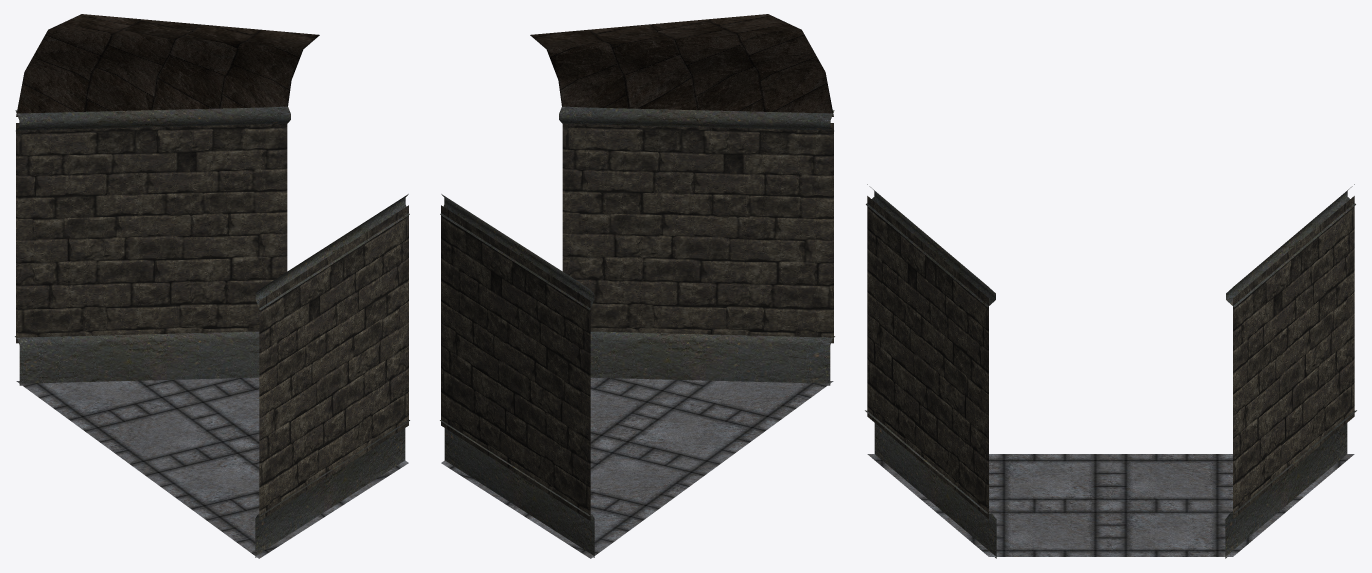
File: Transition.fbx
3 renders of one model, left to right at view 1: azimuth 30°, elevation 25°; view 2: azimuth 150°, elevation 25°; view 3: azimuth 270°, elevation 25°, orthographic.
Visible parts, largest first — view 1: Plane_020, Plane_002, Mesh, Plane_021, Plane_019, Plane_016, Plane_018, Plane_017; view 2: Plane_002, Plane_020, Mesh, Plane_021, Plane_016, Plane_019, Plane_017, Plane_018; view 3: Plane_020, Plane_002, Plane_021, Plane_019, Plane_016, Plane_018, Plane_017.
Boxes of the visible parts, x1,y1,x2,y2 form: Plane_020: (16, 123, 287, 343); Plane_002: (259, 205, 408, 520); Mesh: (16, 14, 319, 116); Plane_021: (16, 377, 408, 558); Plane_019: (15, 331, 259, 385); Plane_016: (255, 420, 409, 557); Plane_018: (15, 106, 290, 130); Plane_017: (255, 194, 409, 310); Plane_002: (562, 123, 833, 343); Plane_020: (441, 205, 590, 520); Mesh: (530, 14, 833, 116); Plane_021: (441, 377, 833, 558); Plane_016: (590, 331, 834, 385); Plane_019: (440, 420, 594, 557); Plane_017: (559, 106, 834, 130); Plane_018: (440, 194, 594, 310); Plane_020: (1233, 196, 1354, 518); Plane_002: (867, 196, 988, 518); Plane_021: (867, 454, 1354, 556); Plane_019: (1225, 410, 1356, 558); Plane_016: (865, 410, 996, 558); Plane_018: (1226, 184, 1355, 307); Plane_017: (866, 184, 995, 307).
Size of the model in its own units: 2 by 4 by 4.05.
